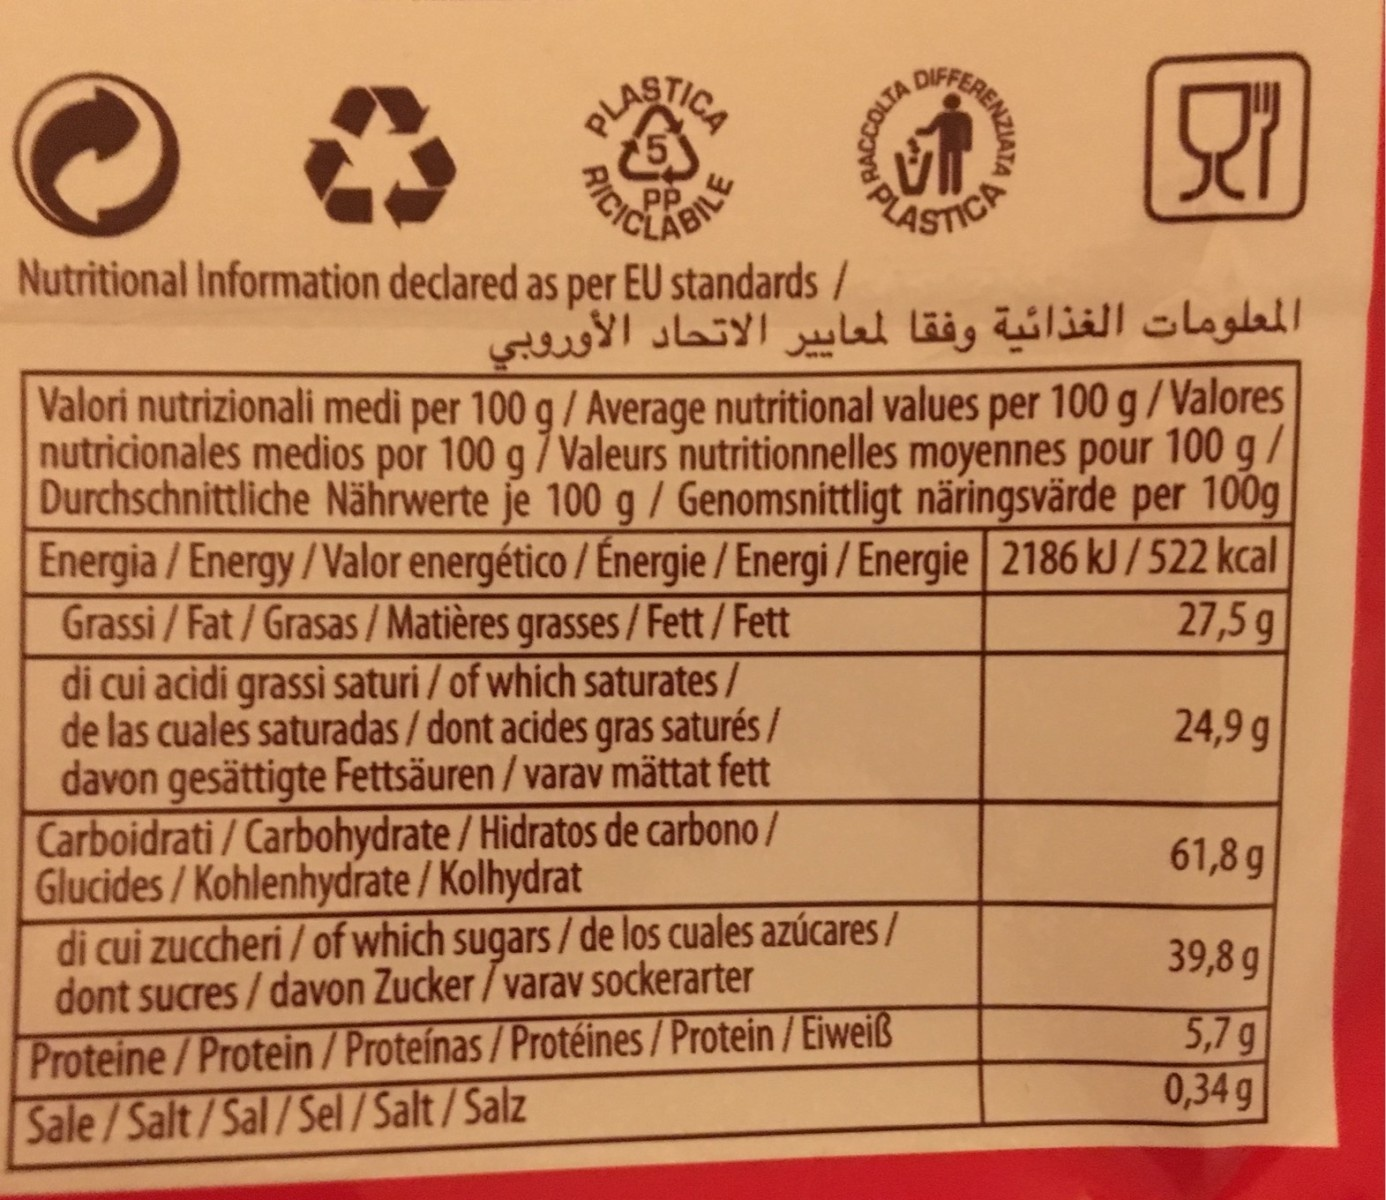column: (29, 534, 970, 1146), (1001, 529, 1280, 1121)
table: (4, 360, 1305, 1133)
